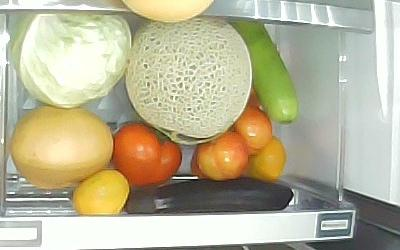cabbage: (11, 13, 133, 109)
eggplant: (121, 178, 295, 215)
melon: (126, 17, 254, 146)
pear: (11, 107, 113, 191)
prune: (196, 132, 249, 181), (233, 106, 273, 156), (251, 134, 287, 181)
tangerine: (73, 169, 129, 215)
tomato: (112, 122, 184, 186)
zucchini: (228, 18, 299, 126)
